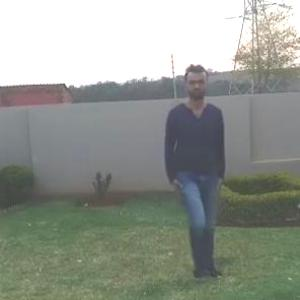follow: (162, 58, 227, 276)
